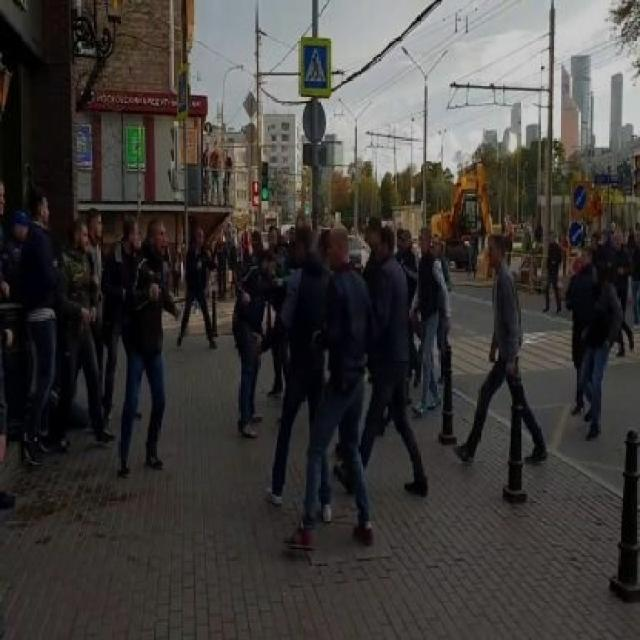fight: (120, 216, 332, 524)
non-fight: (282, 218, 378, 554), (452, 234, 549, 466), (360, 224, 431, 498), (10, 184, 68, 465), (562, 222, 630, 442), (56, 216, 116, 454), (229, 247, 285, 440), (174, 222, 225, 352)
